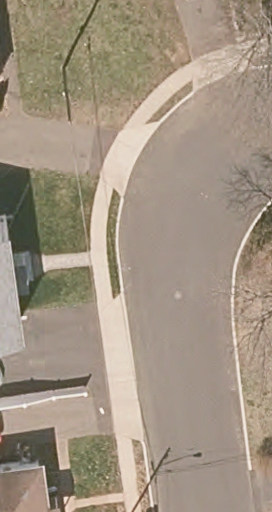DT: (60, 66, 77, 123)
